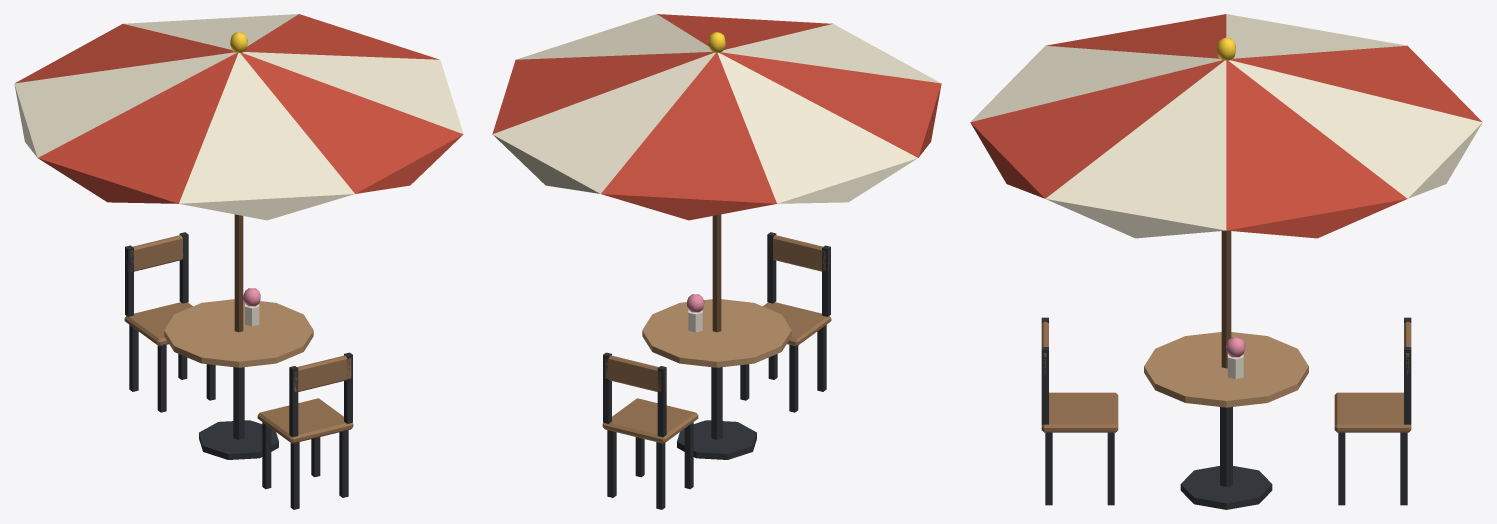
Rendered from plaza_cafe.glb.
3 renders of one model, left to right at view 1: azimuth 30°, elevation 25°; view 2: azimuth 150°, elevation 25°; view 3: azimuth 270°, elevation 25°, orthographic. The views are drawn at different scales.
Visible parts, largest first — view 1: LOD0; view 2: LOD0; view 3: LOD0.
Boxes of the visible parts, bbox=[...] form: LOD0: bbox=[14, 14, 463, 509]; LOD0: bbox=[492, 14, 941, 509]; LOD0: bbox=[970, 14, 1482, 509].
Size of the model in its own units: 2.8 by 2.73 by 2.8.
1 material, 1 textured.
